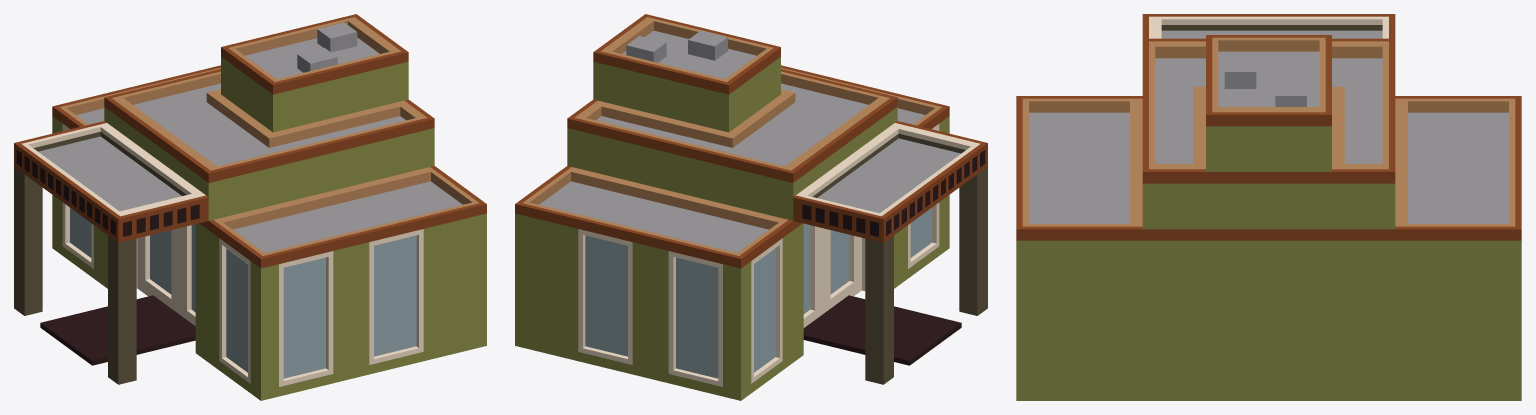
Rendered from Buildings Final For Import-13.obj.
3 views of the same model, side by side, from view 1: azimuth 30°, elevation 25°; view 2: azimuth 150°, elevation 25°; view 3: azimuth 270°, elevation 25° (orthographic). The views are drawn at different scales.
Bounding box in the file's own units: 7 × 5.1 × 8.
1 material, 1 textured.
